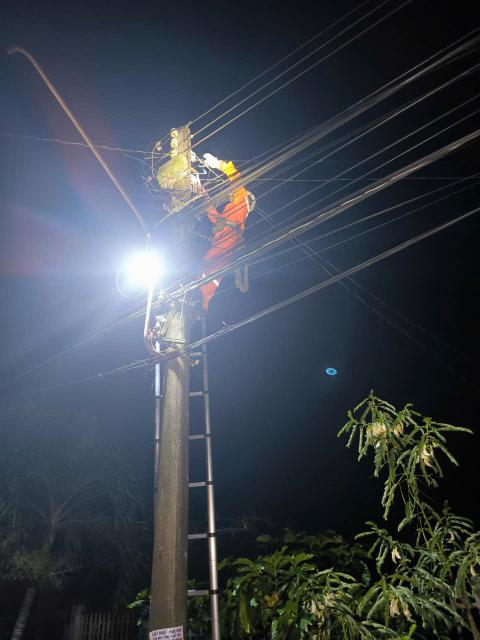gloves: (195, 140, 227, 179), (187, 169, 211, 203)
helmet: (242, 176, 268, 224)
shoes: (184, 287, 221, 318)
